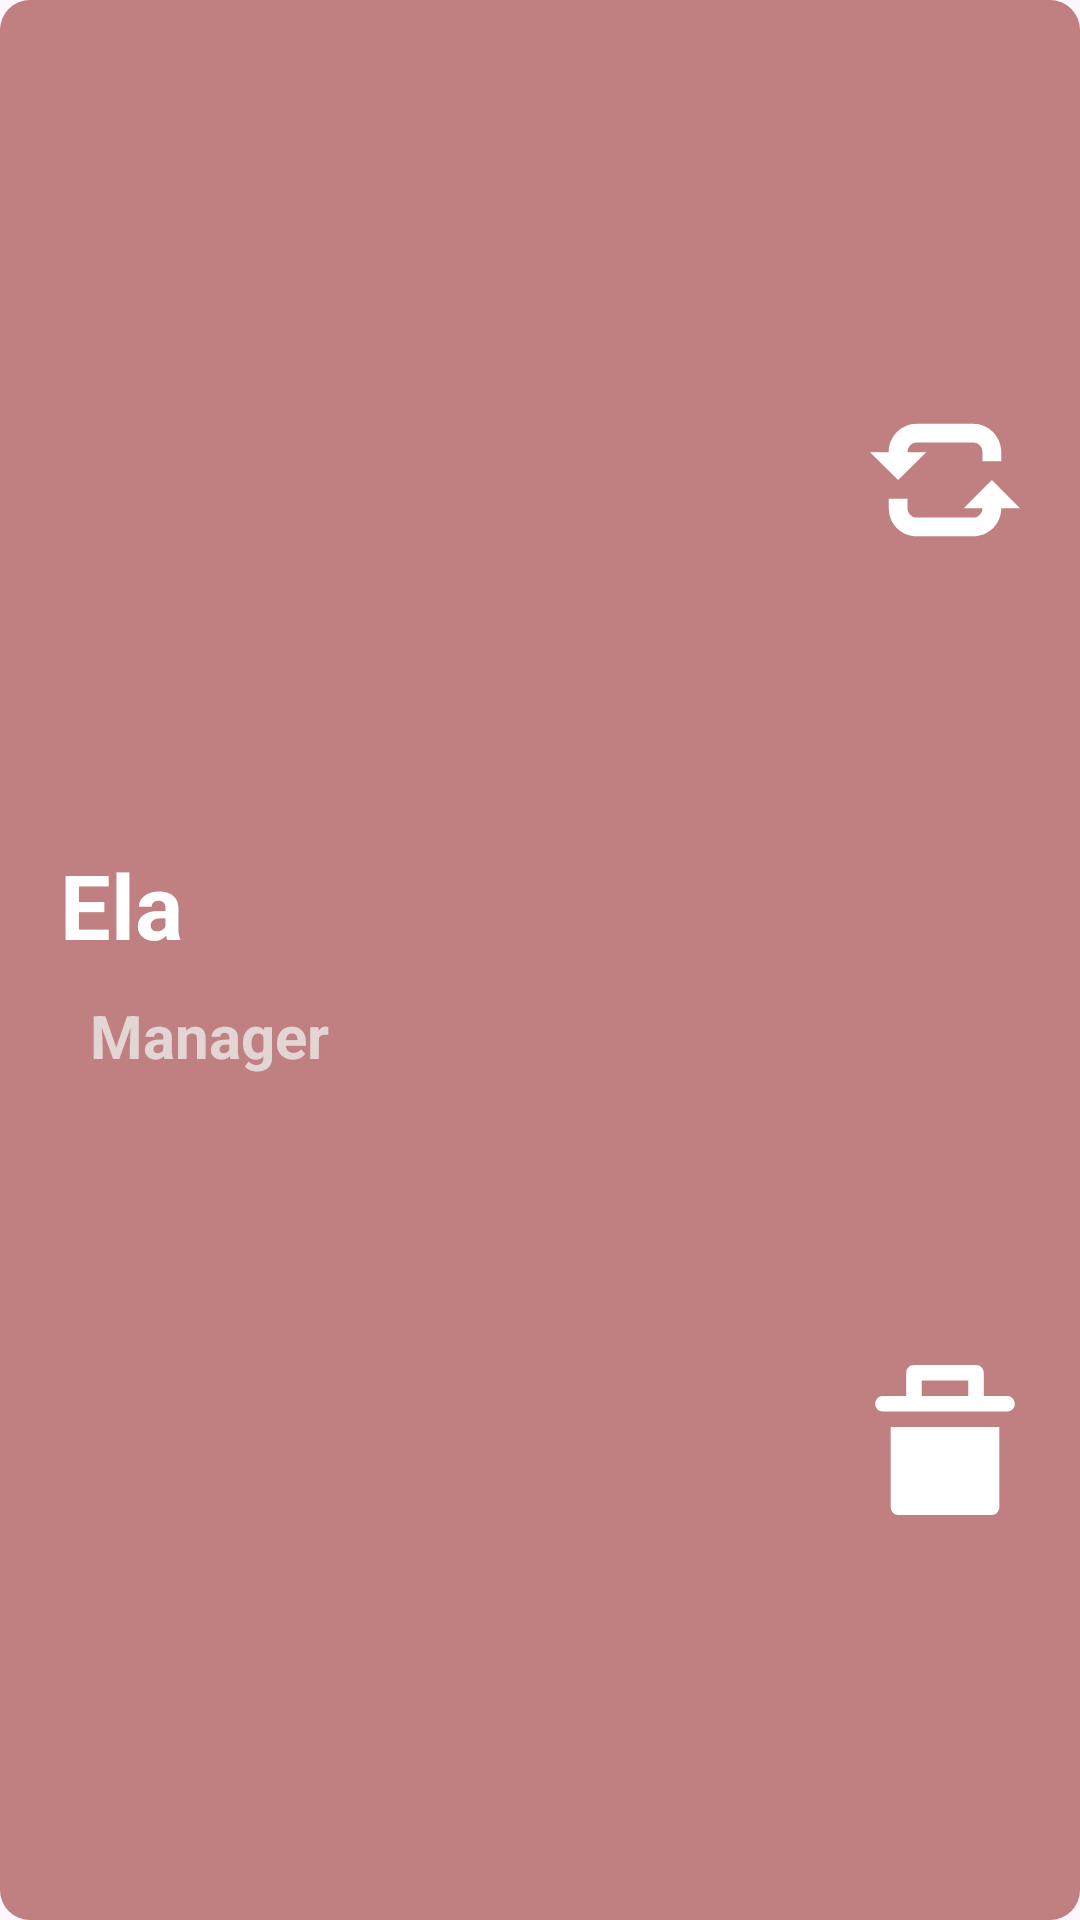

Point at icon controls on the screen. Image size 1080px×1920px, points as [x,y].
delete: [945,1440]
update: [945,480]
